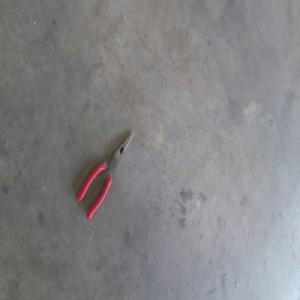Pliers: (78, 130, 135, 218)
